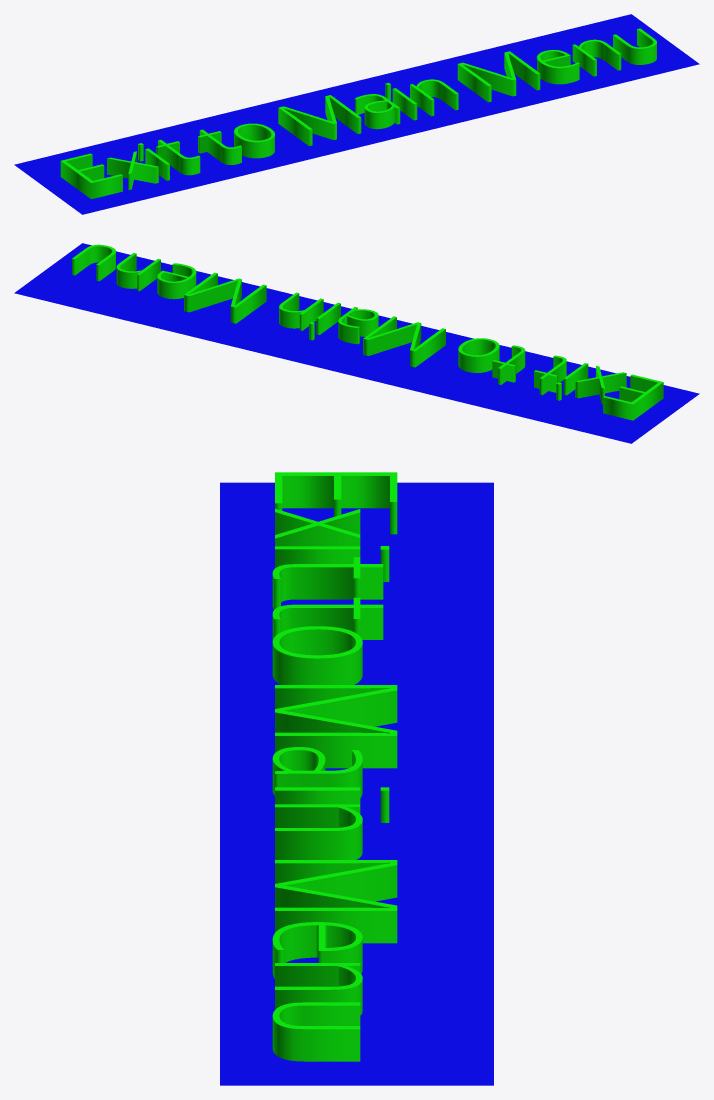
File: exit-to-main-menu.glb
3 renders of one model, top to bottom at view 1: azimuth 30°, elevation 25°; view 2: azimuth 150°, elevation 25°; view 3: azimuth 270°, elevation 25°, orthographic. The views are drawn at different scales.
Visible parts, largest first — view 1: Plane, Text; view 2: Plane, Text; view 3: Plane, Text.
Boxes of the visible parts, x1=… form: Plane: x1=14, y1=14, x2=699, y2=214; Text: x1=60, y1=28, x2=656, y2=199; Plane: x1=14, y1=243, x2=699, y2=443; Text: x1=72, y1=244, x2=663, y2=420; Plane: x1=220, y1=482, x2=493, y2=1085; Text: x1=272, y1=472, x2=397, y2=1061.
Size of the model in its own units: 4 by 0.1 by 0.768.
